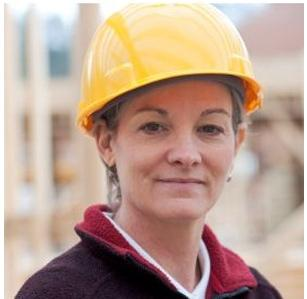helmet: (78, 1, 265, 138)
